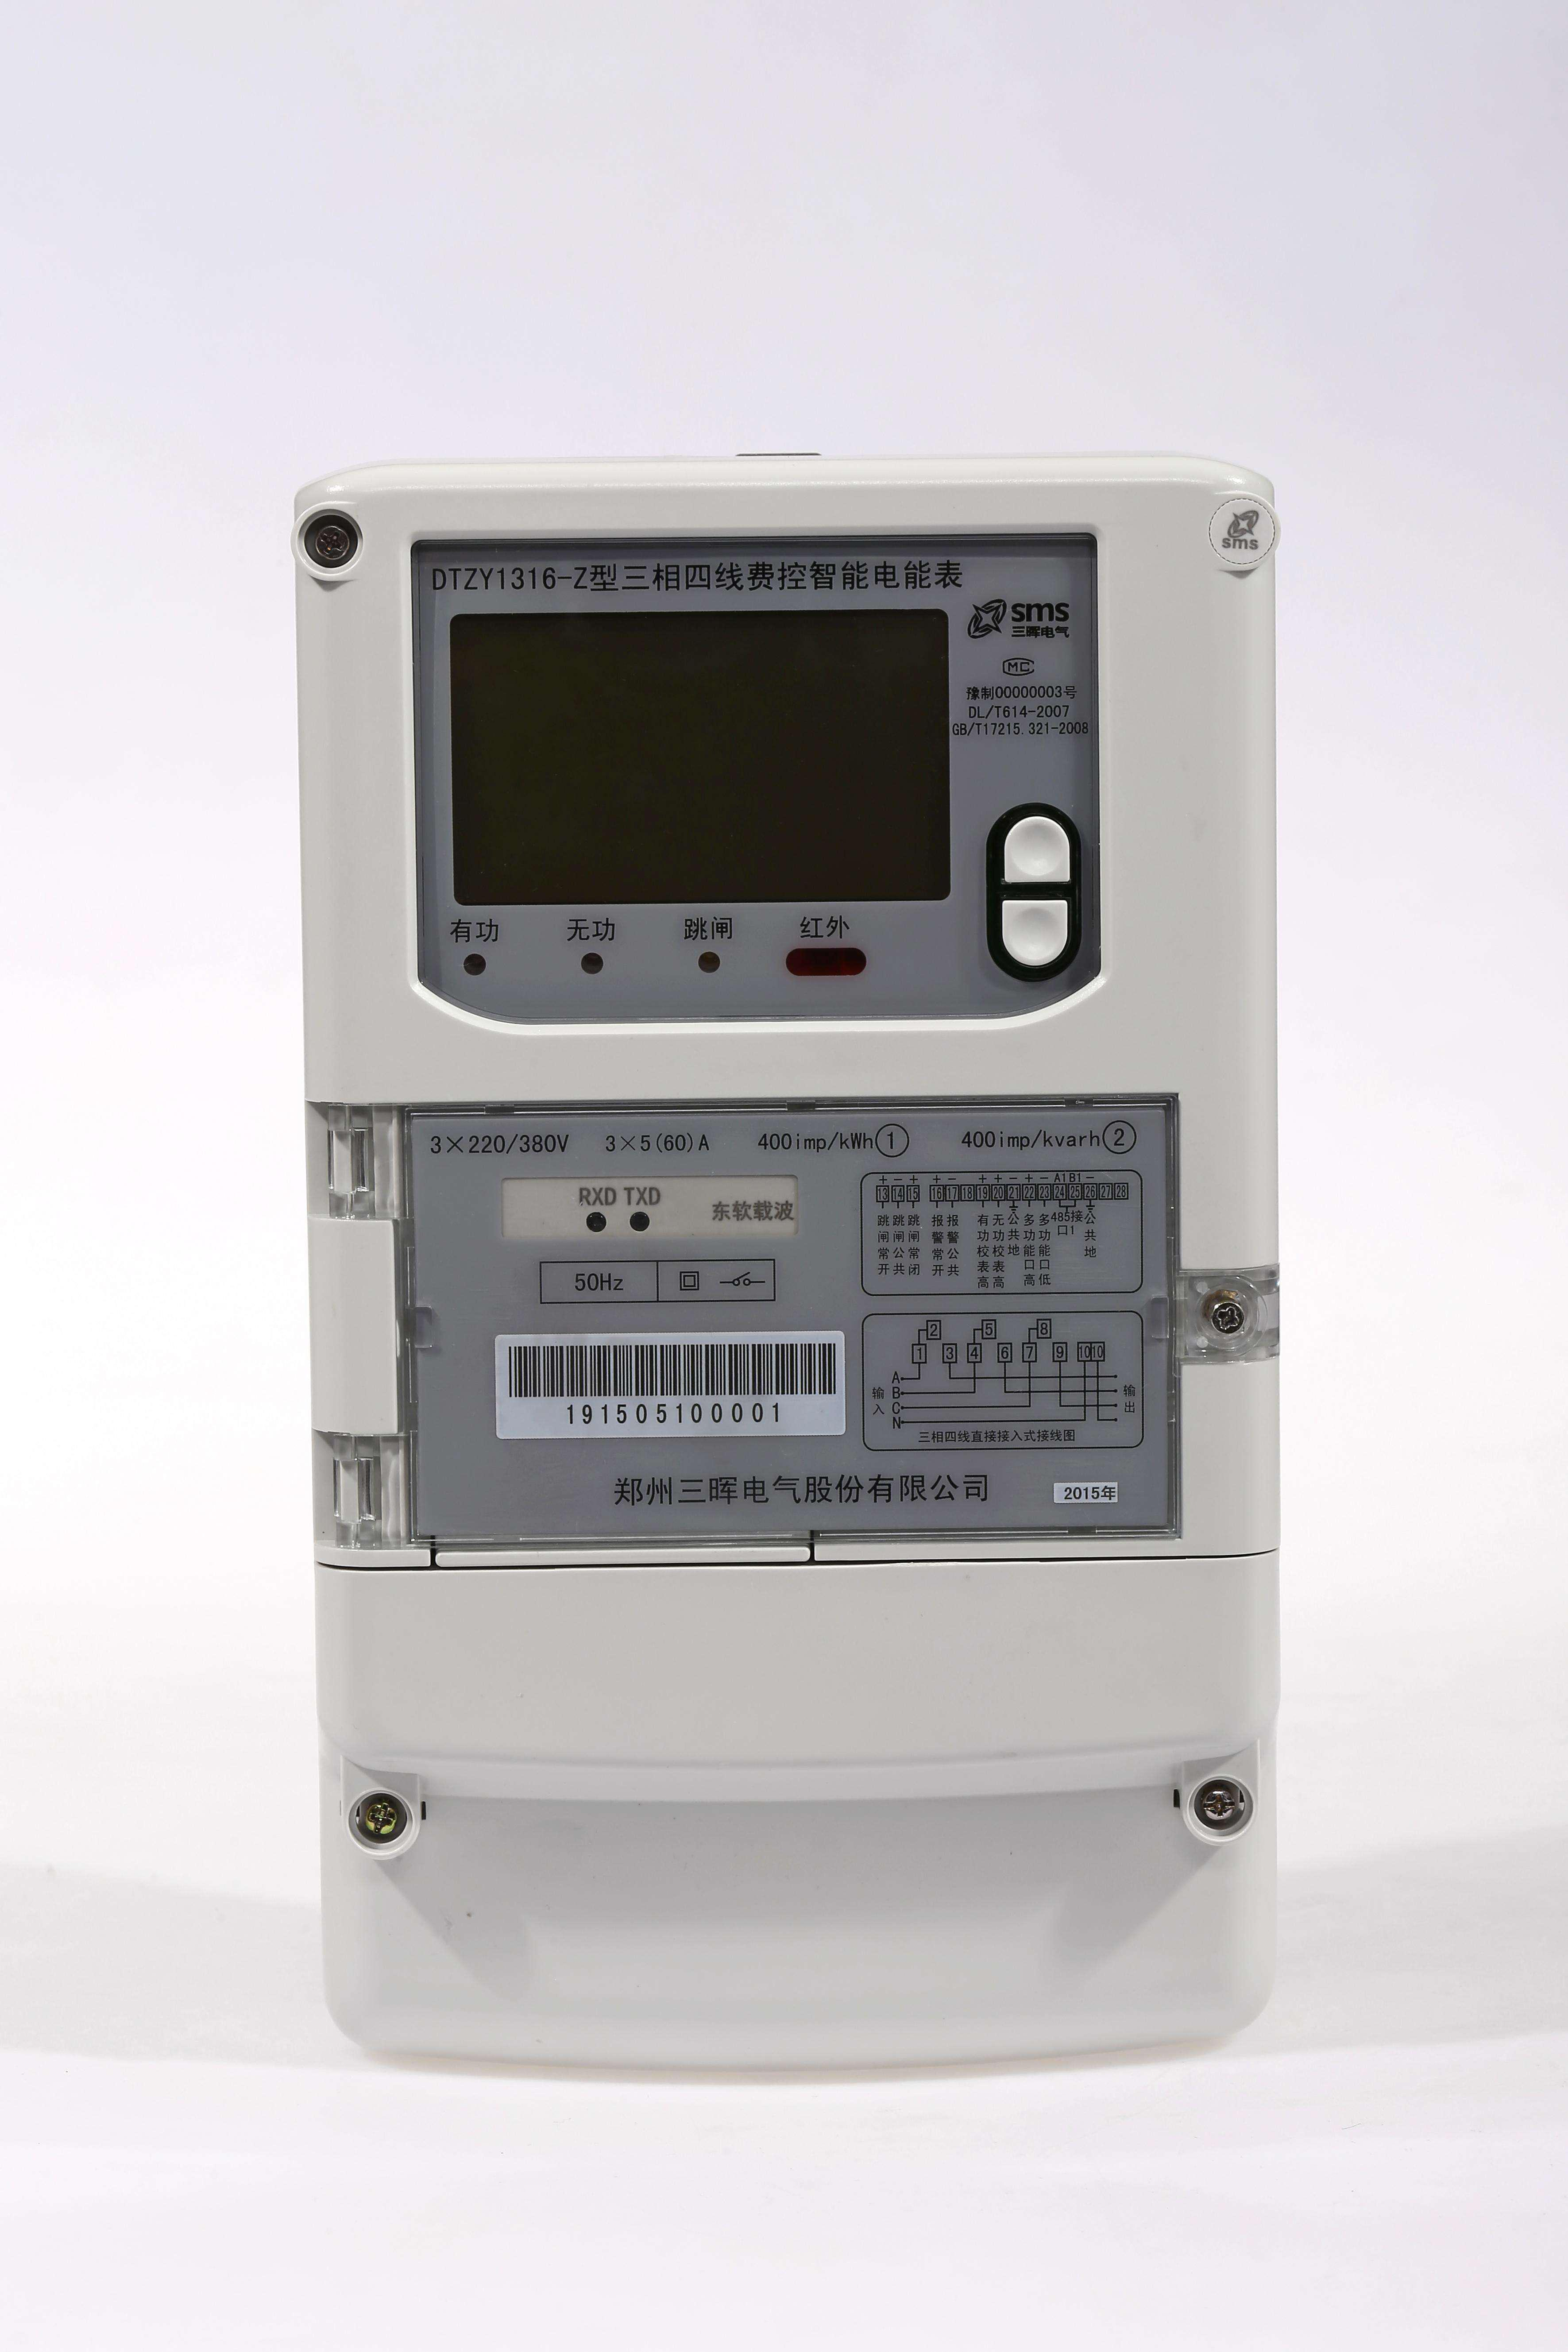digital: (290, 469, 1281, 1792)
